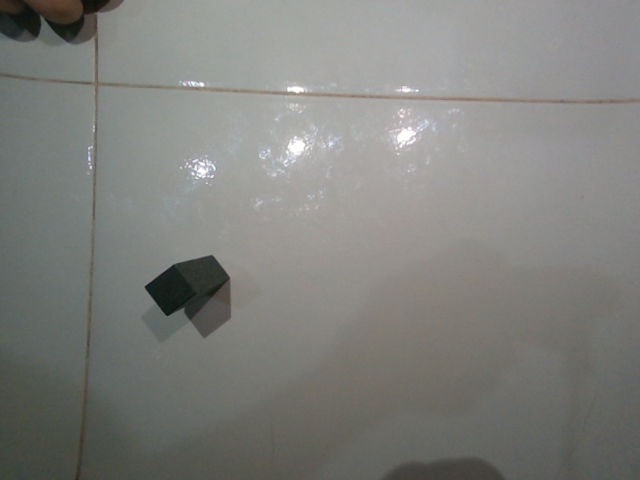Balok-Hitam: (143, 252, 229, 316)
